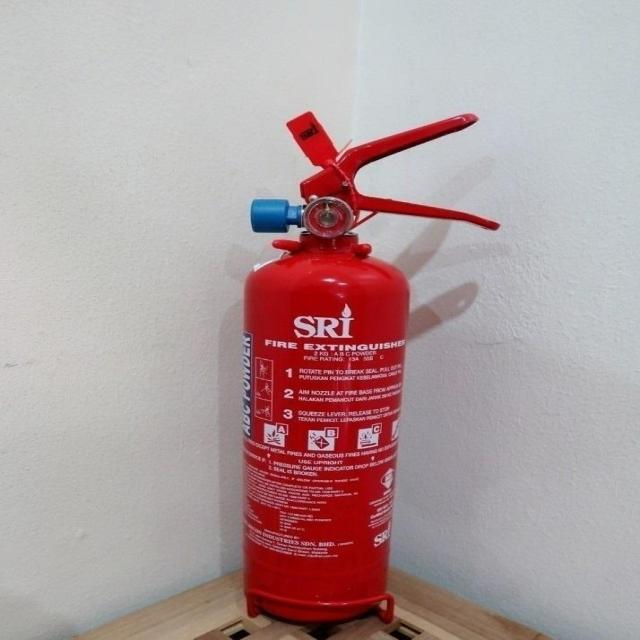fire_extinguisher: (230, 106, 504, 628)
